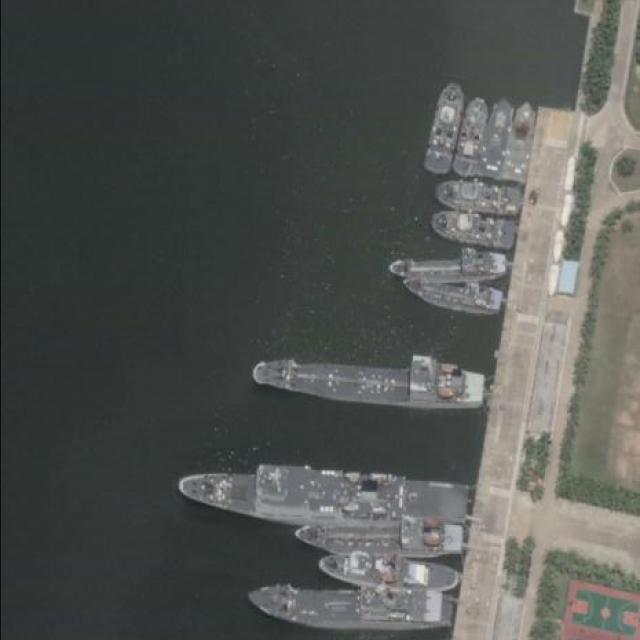Landing: (179, 460, 472, 529), (247, 346, 487, 411), (246, 582, 456, 628)
Other Warship: (294, 523, 465, 560), (314, 550, 460, 593), (402, 271, 508, 318), (386, 246, 513, 285), (421, 80, 468, 176), (432, 177, 526, 220), (429, 209, 521, 251), (451, 92, 491, 179), (500, 96, 540, 182), (477, 94, 515, 180)
